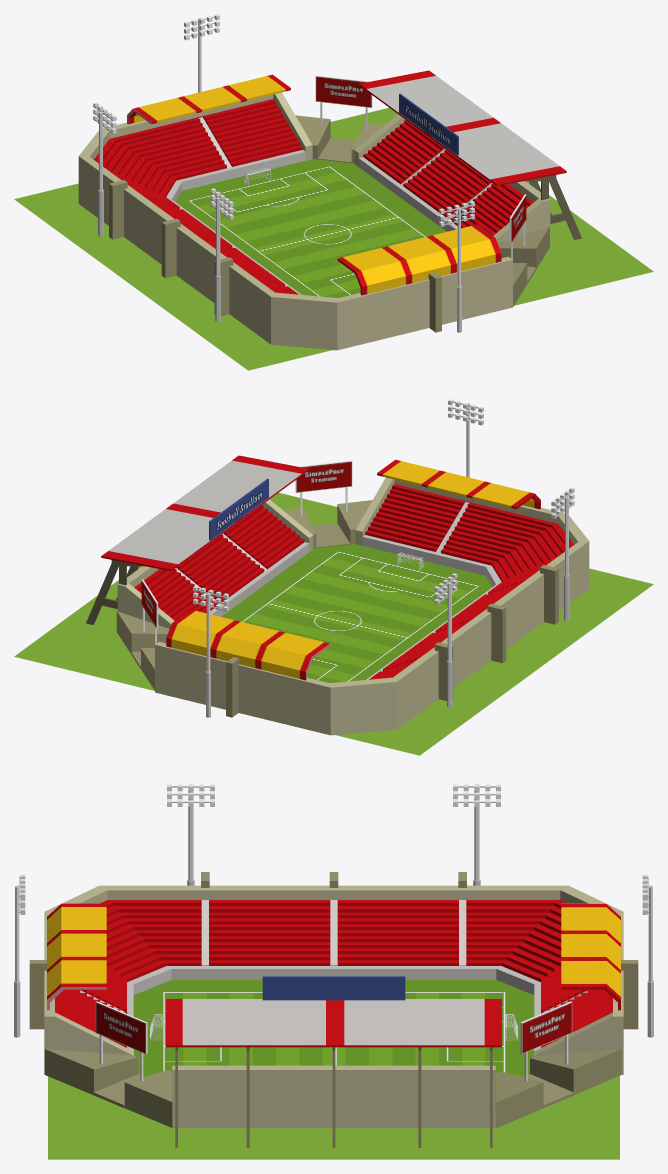
File: stadium.gltf
3 views of the same model, one above another, from view 1: azimuth 30°, elevation 25°; view 2: azimuth 150°, elevation 25°; view 3: azimuth 270°, elevation 25° (orthographic). The views are drawn at different scales.
Visible parts, largest first — view 1: Building_Stadium_Cylinder.003, Natures_Grass Tile_Plane.010 (×4); view 2: Building_Stadium_Cylinder.003, Natures_Grass Tile_Plane.010 (×4); view 3: Building_Stadium_Cylinder.003, Natures_Grass Tile_Plane.010 (×2).
Boxes of the visible parts, bbox=[...] form: Building_Stadium_Cylinder.003: bbox=[78, 14, 581, 350]; Natures_Grass Tile_Plane.010 (×4): bbox=[14, 107, 653, 370]; Building_Stadium_Cylinder.003: bbox=[86, 399, 589, 735]; Natures_Grass Tile_Plane.010 (×4): bbox=[14, 492, 653, 755]; Building_Stadium_Cylinder.003: bbox=[14, 784, 653, 1147]; Natures_Grass Tile_Plane.010 (×2): bbox=[48, 1075, 619, 1159].
Size of the model in its own units: 40 by 11.73 by 44.76.
2 materials, 2 textured.
